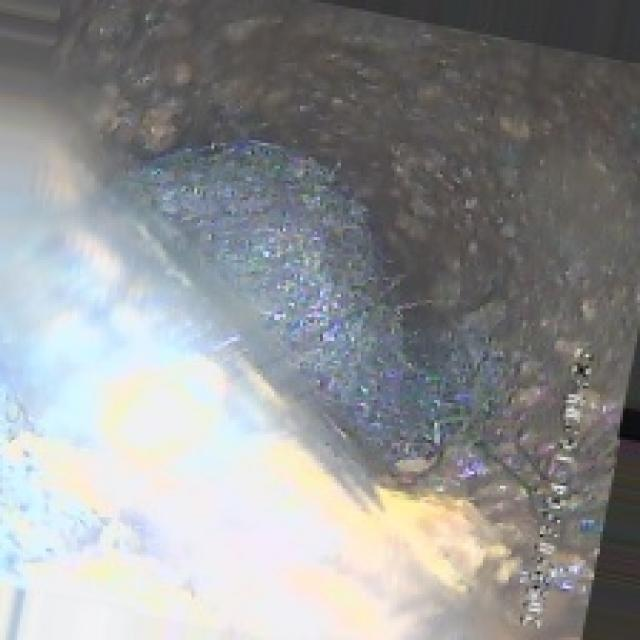Root_blockage: (134, 123, 474, 514)
